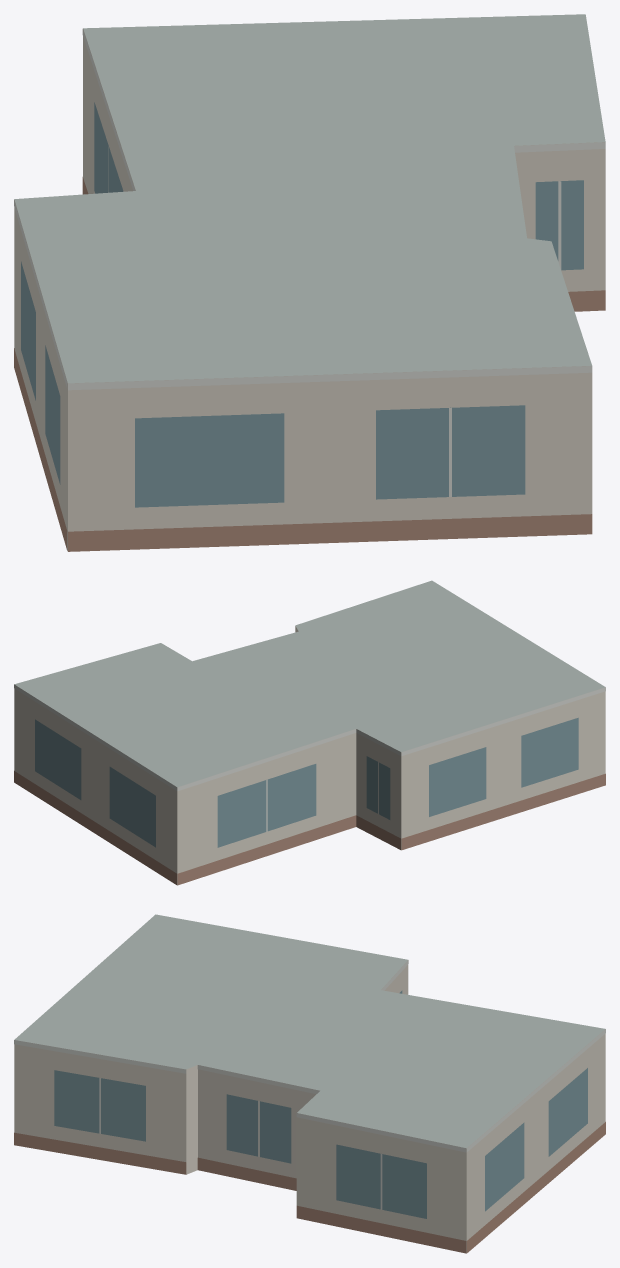
Rendered from survey-upis-32630120.glb.
3 renders of one model, top to bottom at view 1: azimuth 30°, elevation 25°; view 2: azimuth 150°, elevation 25°; view 3: azimuth 270°, elevation 25°, orthographic. The views are drawn at different scales.
Parts seen in each view (by area): view 1: survey-upis-32630120.tmp; view 2: survey-upis-32630120.tmp; view 3: survey-upis-32630120.tmp.
Boxes of the visible parts, x1,y1,x2,y2 form: survey-upis-32630120.tmp: (14, 14, 605, 551); survey-upis-32630120.tmp: (14, 580, 605, 885); survey-upis-32630120.tmp: (14, 914, 605, 1253).
Bounding box in the file's own units: 14.55 × 3.05 × 15.55.
